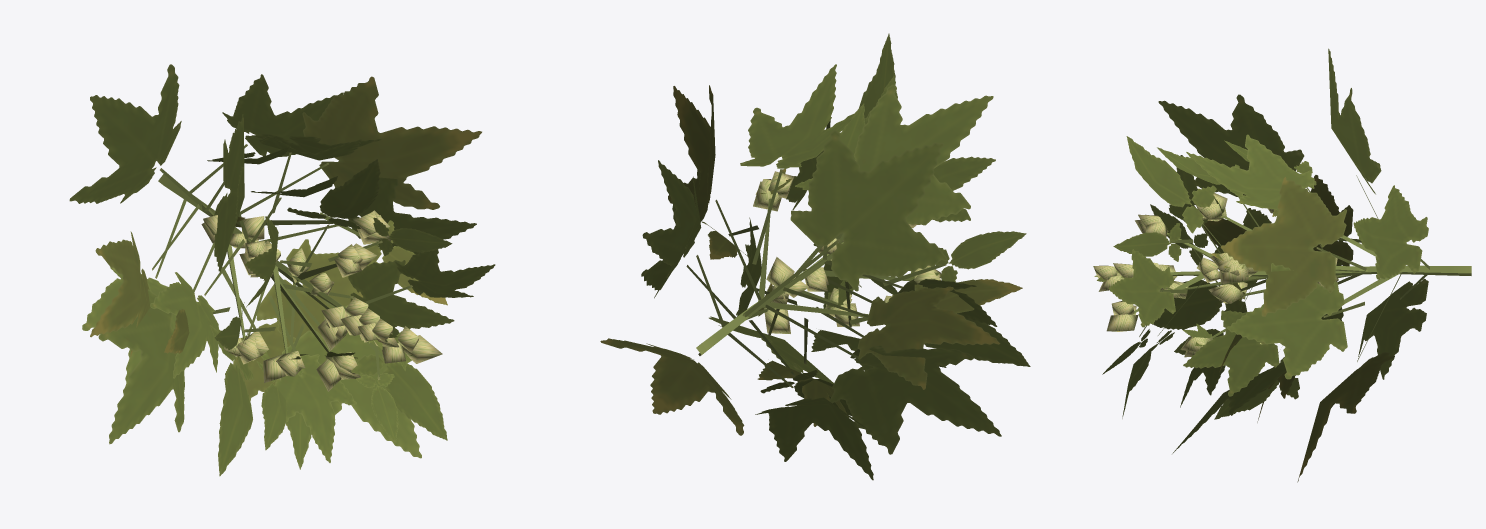
File: p_male_afghan_ripe_c1_cards.obj
3 renders of one model, left to right at view 1: azimuth 30°, elevation 25°; view 2: azimuth 150°, elevation 25°; view 3: azimuth 270°, elevation 25°, orthographic. The views are drawn at different scales.
Size of the model in its own units: 1.28 by 1.29 by 1.07.
1 material, 1 textured.
